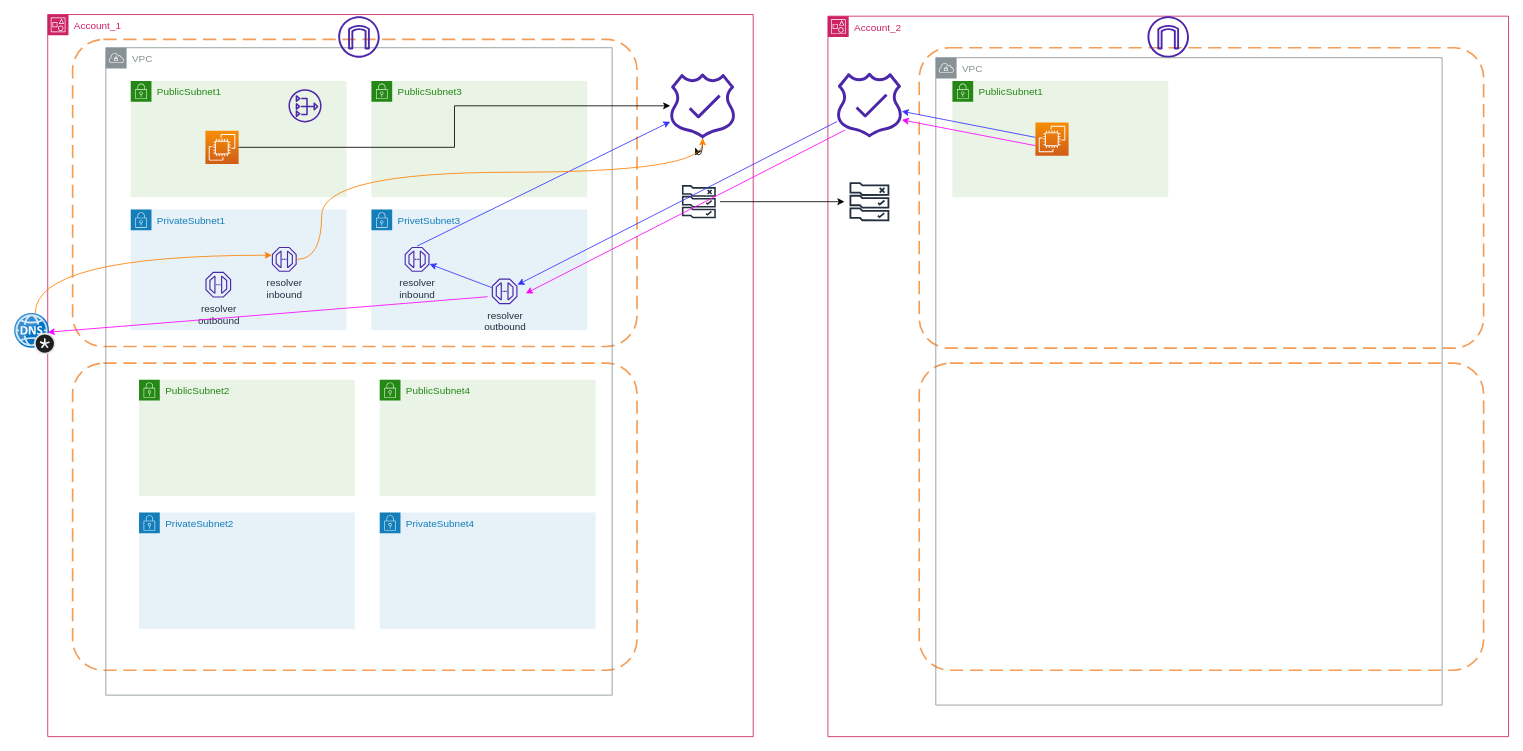
The diagram is 1523 pixels wide and 751 high, and some of its shapes have lost their labels. The shapes that lost their labels are listed below. From the top down, each one's centre as x and y in pixels, then its label:
(x=304, y=105): Nat gateway
(x=702, y=105): R53 resolver Private zone
(x=869, y=104): R53 resolver
(x=222, y=147): jumpbox
(x=1052, y=139): instance
(x=698, y=201): Resolver Rules
(x=869, y=201): Shared Resolver Rules
